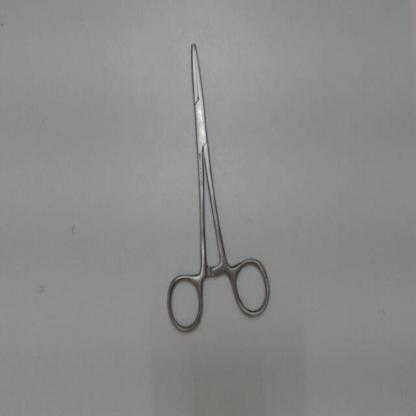Mayo Needle Holder: (157, 21, 277, 343)
